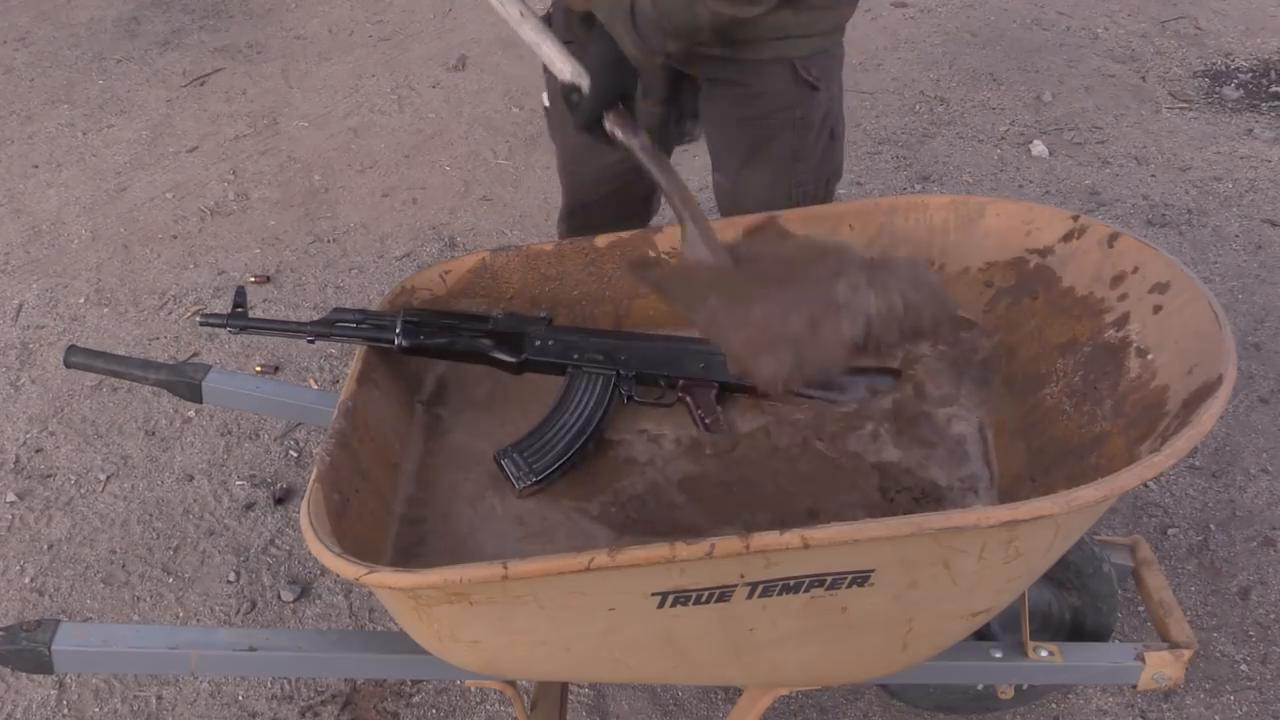AK47 Rifle: (197, 287, 901, 499)
